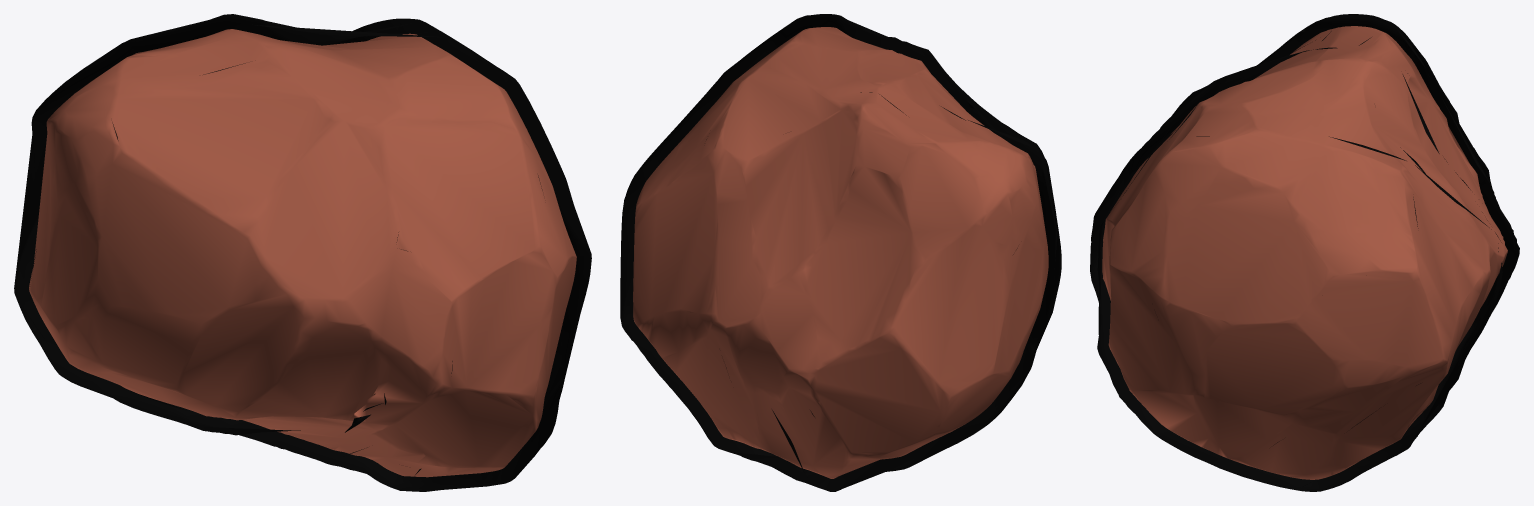
File: rock_small.glb
3 views of the same model, side by side, from view 1: azimuth 30°, elevation 25°; view 2: azimuth 150°, elevation 25°; view 3: azimuth 270°, elevation 25° (orthographic). The views are drawn at different scales.
Parts seen in each view (by area): view 1: rock_small; view 2: rock_small; view 3: rock_small.
Boxes of the visible parts, x1,y1,x2,y2 form: rock_small: (14,14,591,491); rock_small: (620,14,1061,491); rock_small: (1090,14,1519,491).
Bounding box in the file's own units: 3.18 × 3.18 × 3.18.
